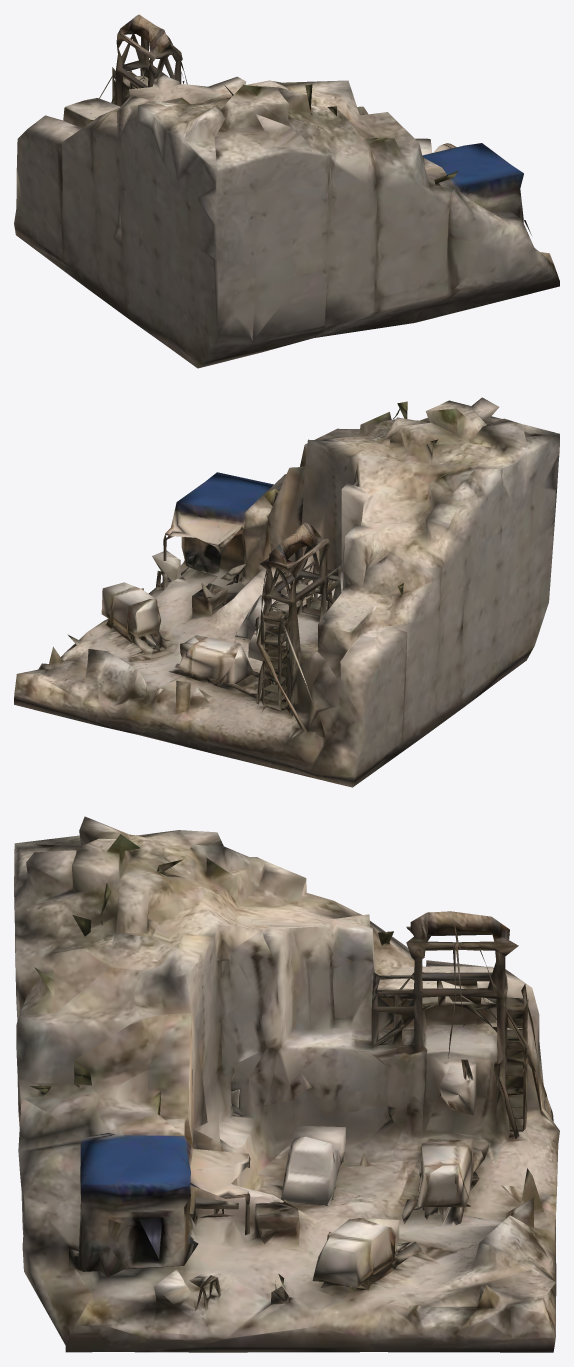
The model's file is stone_quarry_1.glb.
The picture shows the model from 3 angles, top to bottom: view 1: azimuth 30°, elevation 25°; view 2: azimuth 150°, elevation 25°; view 3: azimuth 270°, elevation 25°; orthographic projection. The views are drawn at different scales.
Visible parts, largest first — view 1: tripo_node_575072be-8465-417a-b730-a044a467c8c4; view 2: tripo_node_575072be-8465-417a-b730-a044a467c8c4; view 3: tripo_node_575072be-8465-417a-b730-a044a467c8c4.
Part boxes in pixels (x1,y1,x2,y2): tripo_node_575072be-8465-417a-b730-a044a467c8c4: [14, 14, 559, 368]; tripo_node_575072be-8465-417a-b730-a044a467c8c4: [14, 397, 559, 787]; tripo_node_575072be-8465-417a-b730-a044a467c8c4: [14, 816, 559, 1352].
Bounding box in the file's own units: 0.9685 × 0.6565 × 0.9733.
Materials: 1 (1 with a texture image).
